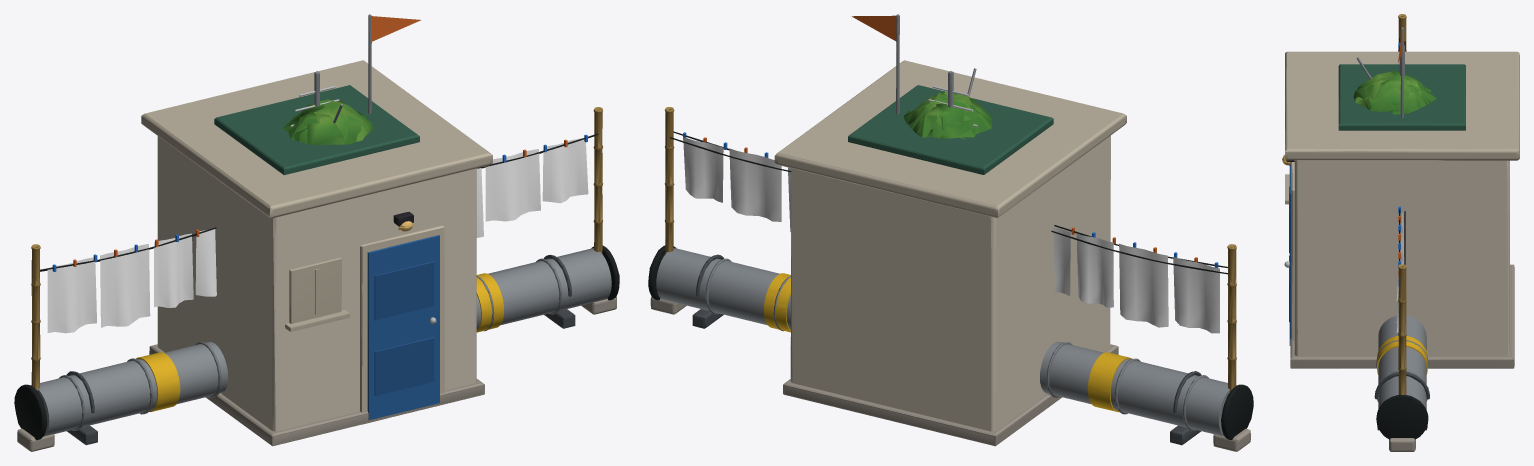
File: props.glb
3 renders of one model, left to right at view 1: azimuth 30°, elevation 25°; view 2: azimuth 150°, elevation 25°; view 3: azimuth 270°, elevation 25°, orthographic. The views are drawn at different scales.
Visible parts, largest first — view 1: hut@1, hut, low2@1, high2, high2@1, coop, hut@2, low2, tree, tree@1, coop@2, coop@1 (+1 smaller); view 2: hut@1, hut, high2@1, high2, low2@1, low2, coop, hut@2, tree, coop@1, tree@1, coop@2; view 3: hut, hut@1, coop, hut@2, low2@1, low2, high2@1, high2, tree@1, tree, coop@2, coop@1 (+1 smaller).
Part boxes in pixels (x1,y1,x2,y2): hut@1: [142, 61, 490, 446]; hut: [143, 61, 489, 445]; low2@1: [14, 247, 619, 445]; high2: [17, 107, 616, 451]; high2@1: [17, 109, 616, 451]; coop: [215, 14, 420, 173]; hut@2: [141, 60, 492, 445]; low2: [15, 246, 619, 444]; tree: [281, 100, 373, 145]; tree@1: [282, 99, 369, 143]; coop@2: [214, 14, 419, 175]; coop@1: [215, 14, 418, 174]; hut@1: [776, 60, 1125, 446]; hut: [778, 61, 1124, 445]; high2@1: [651, 109, 1250, 451]; high2: [650, 107, 1250, 451]; low2@1: [648, 245, 1253, 445]; low2: [648, 246, 1252, 444]; coop: [850, 14, 1052, 173]; hut@2: [774, 60, 1126, 445]; tree: [904, 92, 992, 139]; coop@1: [849, 14, 1052, 174]; tree@1: [903, 92, 992, 138]; coop@2: [848, 15, 1053, 174]; hut: [1282, 52, 1519, 368]; hut@1: [1282, 52, 1519, 368]; coop: [1339, 27, 1465, 129]; hut@2: [1282, 51, 1519, 368]; low2@1: [1375, 315, 1429, 438]; low2: [1374, 329, 1429, 439]; high2@1: [1389, 16, 1415, 451]; high2: [1389, 14, 1415, 451]; tree@1: [1354, 71, 1436, 113]; tree: [1355, 70, 1435, 114]; coop@2: [1338, 27, 1465, 130]; coop@1: [1338, 36, 1465, 130].
Size of the model in its own units: 6.9 by 4.21 by 2.65.
